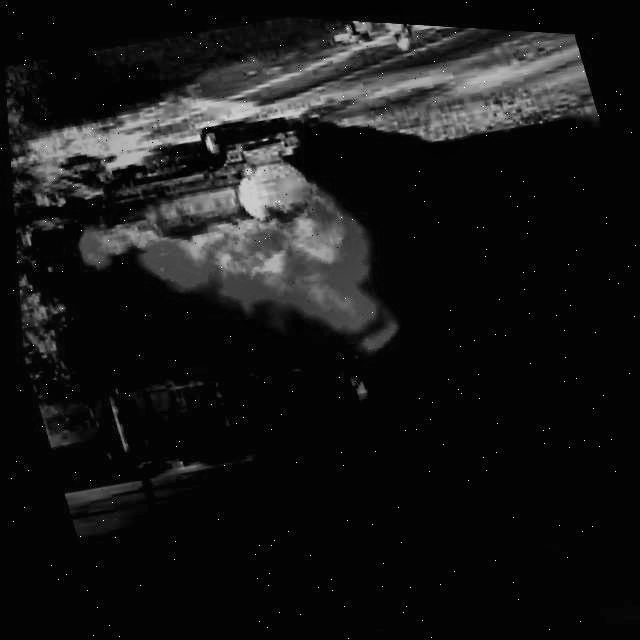Fire: (38, 119, 399, 381)
Smoke: (12, 146, 640, 640)
